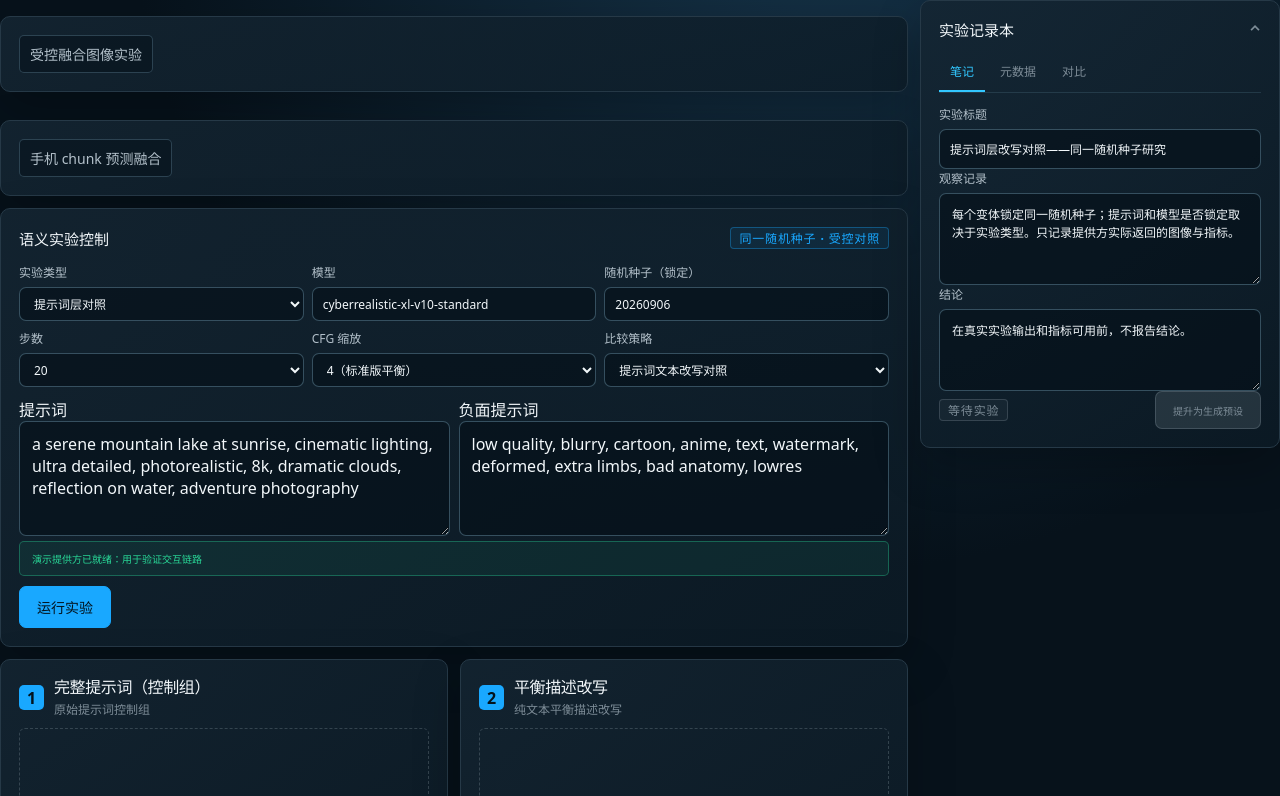
Test case: Lab page › shows each native job state and marks absent metrics unavailable
Click the button "运行实验".
click(65, 607)  # box [19, 586, 111, 628]
(page scrolled)
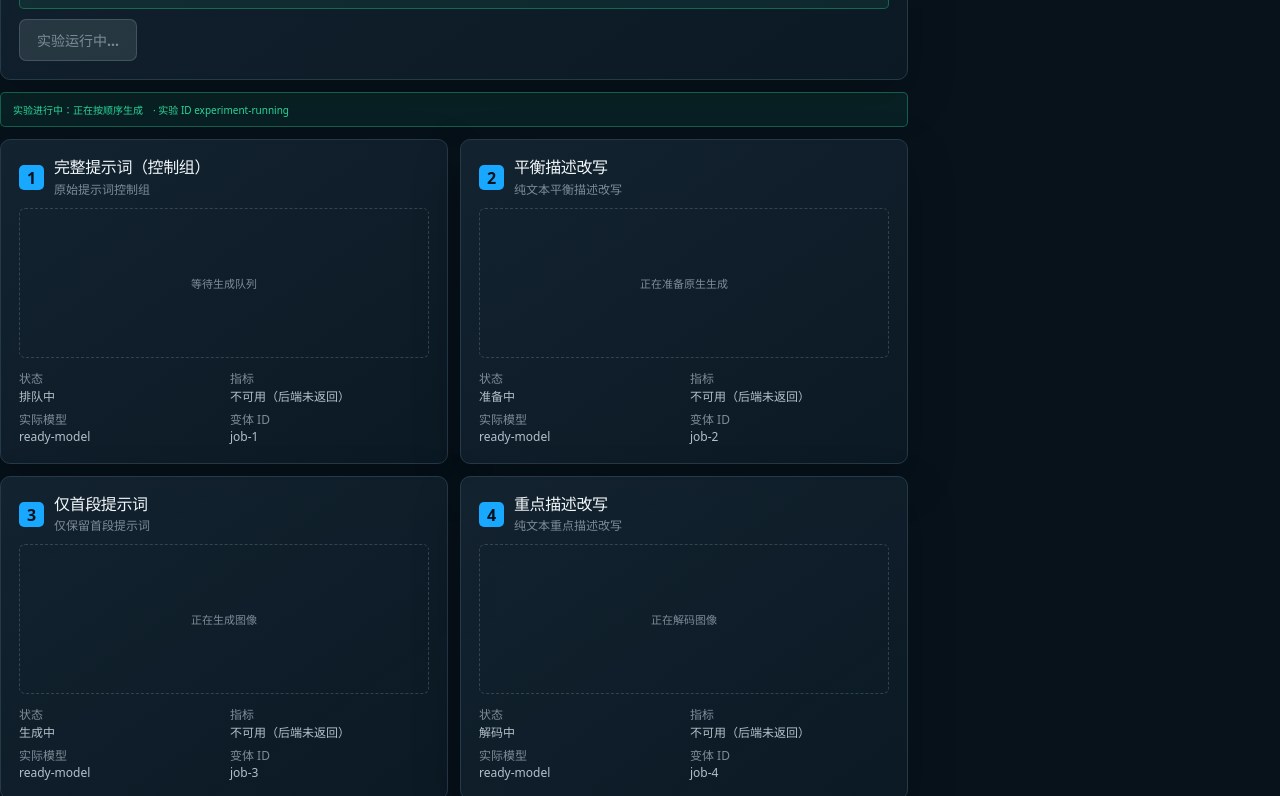
Check: the text "实验进行中：正在按顺序生成 · 实验 ID experiment-running" is shown, box [0, 92, 908, 127]
Check: the text "排队中" is shown, box [19, 388, 55, 405]
Check: the text "准备中" is shown, box [479, 388, 515, 405]
